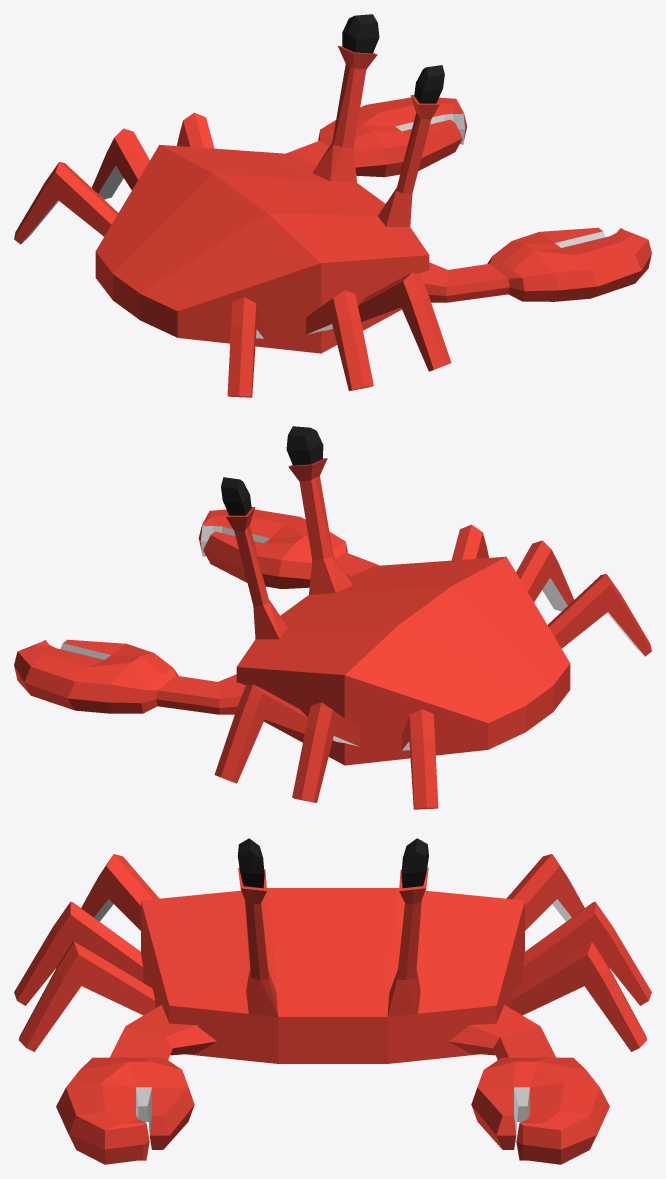
Rendered from Crab.glb.
The picture shows the model from 3 angles, top to bottom: view 1: azimuth 30°, elevation 25°; view 2: azimuth 150°, elevation 25°; view 3: azimuth 270°, elevation 25°; orthographic projection. The views are drawn at different scales.
Parts seen in each view (by area): view 1: Crab_01_Cube.039; view 2: Crab_01_Cube.039; view 3: Crab_01_Cube.039.
Boxes of the visible parts, <box> form: Crab_01_Cube.039: <box>14,14,651,397</box>; Crab_01_Cube.039: <box>14,426,651,809</box>; Crab_01_Cube.039: <box>14,838,651,1164</box>.
Size of the model in its own units: 18.21 by 8.98 by 19.49.
